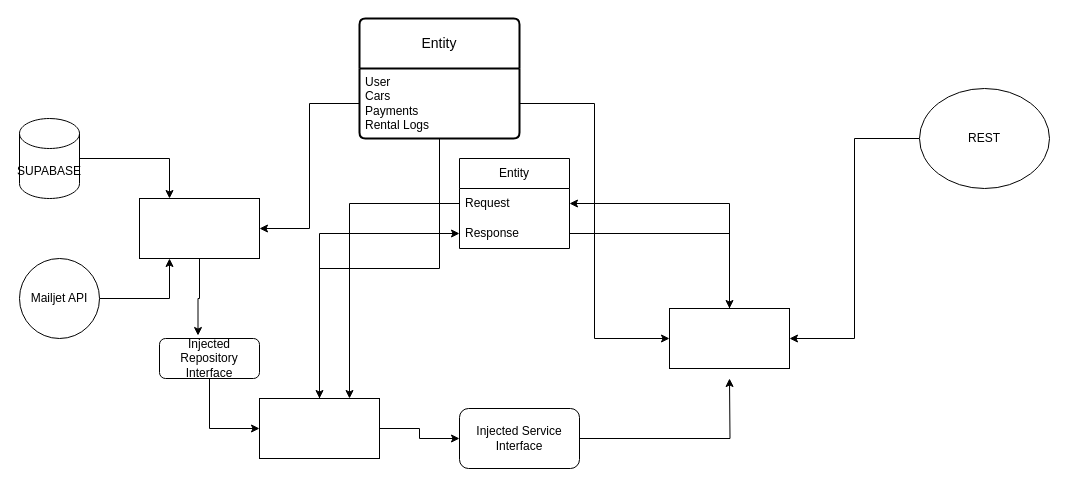
Image size: 1067x486. Some labels were removed from this diagram. The box of each missing label's shape, as (x1, y1, x2, y2) in pixels:
Handler: (668, 308, 790, 368)
Repository: (138, 198, 260, 258)
Service: (258, 398, 380, 458)
